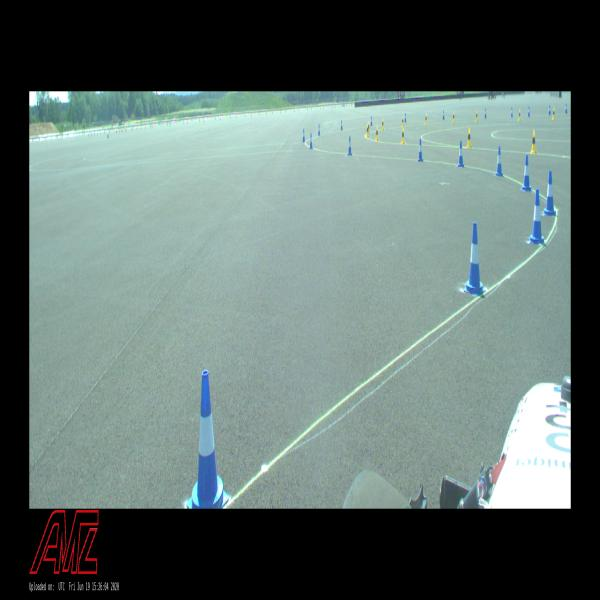blue_cone: (187, 372, 229, 508), (464, 222, 486, 296), (529, 189, 545, 244), (544, 171, 556, 216), (521, 154, 533, 192), (495, 146, 504, 177), (457, 141, 465, 167), (417, 138, 423, 161), (348, 136, 352, 155), (303, 128, 306, 142), (310, 133, 312, 148), (510, 107, 513, 117), (442, 110, 445, 120), (548, 105, 551, 115), (484, 108, 487, 118), (370, 116, 373, 126), (340, 120, 343, 130), (528, 107, 530, 118), (318, 124, 320, 135), (565, 104, 567, 114), (404, 112, 406, 122)
yellow_cone: (530, 130, 536, 154), (467, 129, 471, 148), (401, 127, 405, 144), (375, 126, 379, 141), (552, 107, 556, 120), (366, 124, 369, 138), (518, 110, 521, 121), (475, 111, 478, 122), (452, 112, 455, 122), (382, 118, 384, 130), (368, 122, 370, 134), (402, 116, 404, 127), (425, 114, 427, 124)
